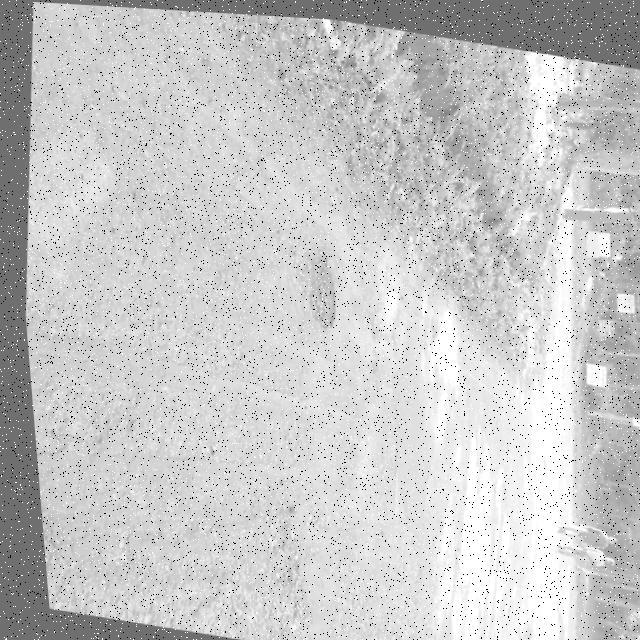pothole: (282, 236, 348, 332)
